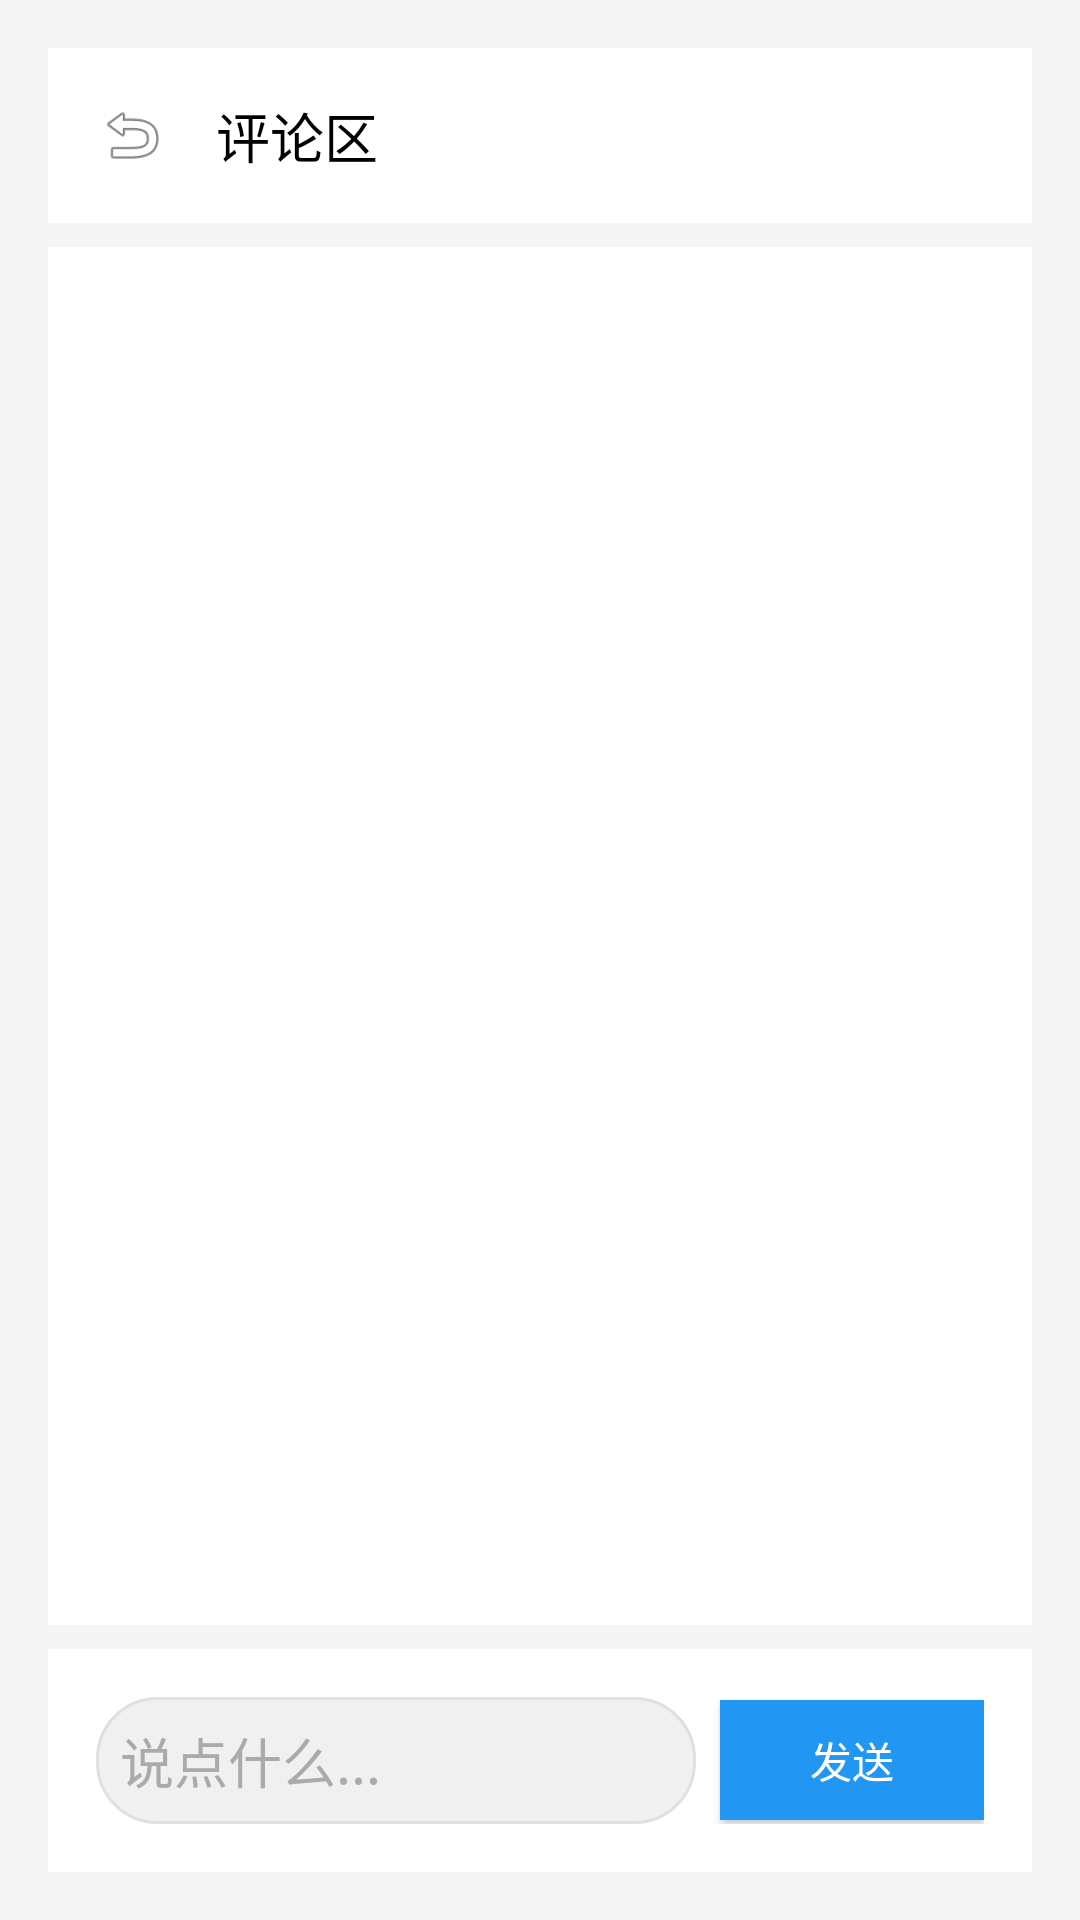

Where to tap for icons on this 1080 × 1920 app screen, as point (x, y):
revert: point (133, 135)
